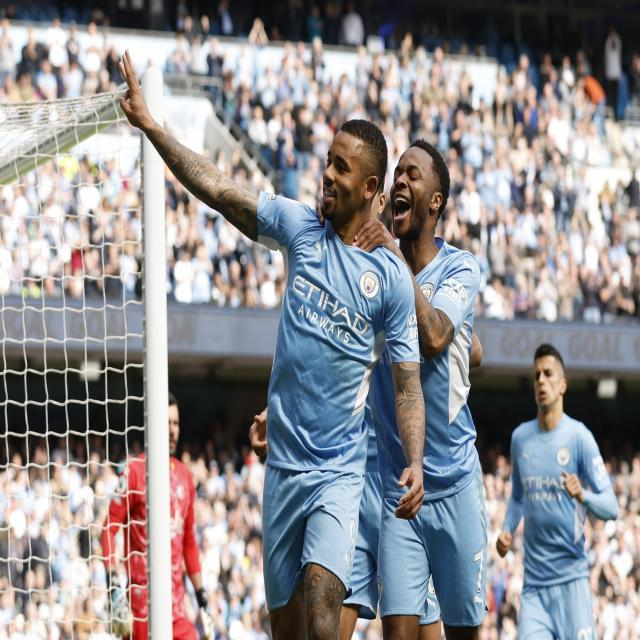Etihad Airways: (292, 274, 369, 344), (520, 474, 568, 504)
Puma: (314, 241, 328, 260), (474, 590, 486, 612), (520, 449, 532, 466), (344, 553, 351, 576)
